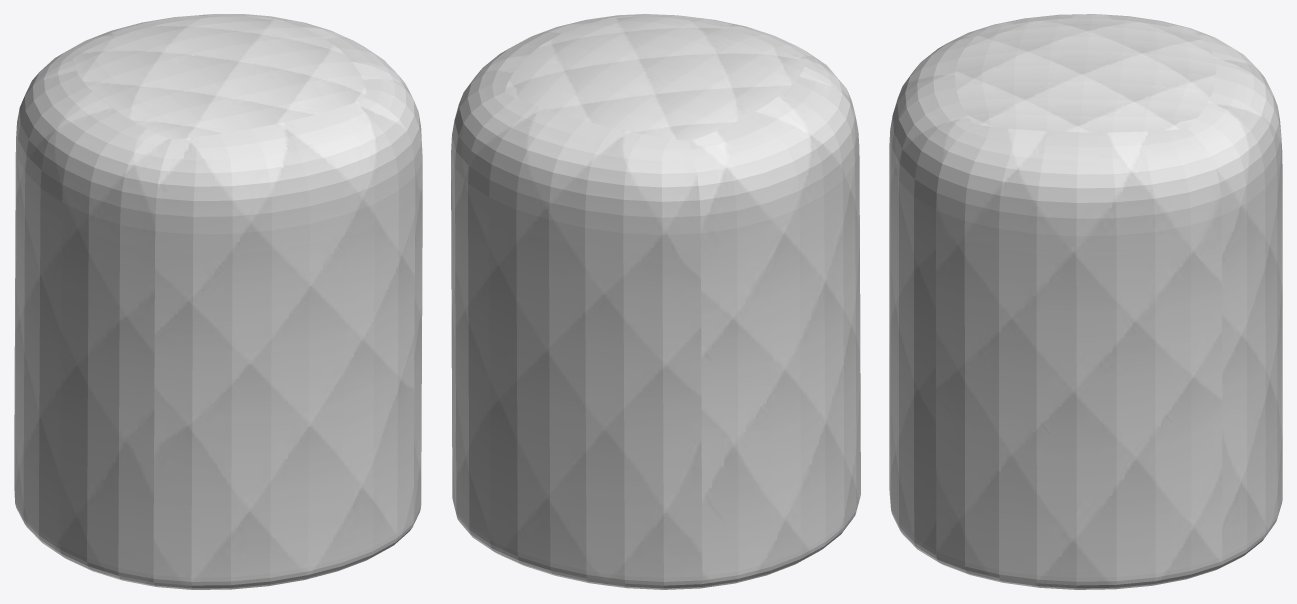
File: stool.glb
3 views of the same model, side by side, from view 1: azimuth 30°, elevation 25°; view 2: azimuth 150°, elevation 25°; view 3: azimuth 270°, elevation 25° (orthographic).
Visible parts, largest first — view 1: Plane.543; view 2: Plane.543; view 3: Plane.543.
Boxes of the visible parts, box(x1,y1,x2,y2) form: Plane.543: box(14, 14, 422, 589); Plane.543: box(451, 14, 860, 589); Plane.543: box(889, 14, 1282, 589).
Bounding box in the file's own units: 12.02 × 15.09 × 11.74.
Materials: 1 (1 with a texture image).
